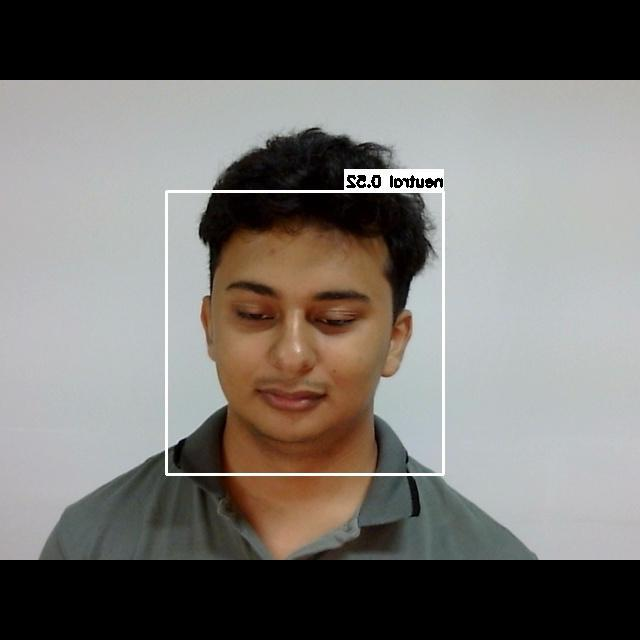Natural: (212, 261, 400, 463)
